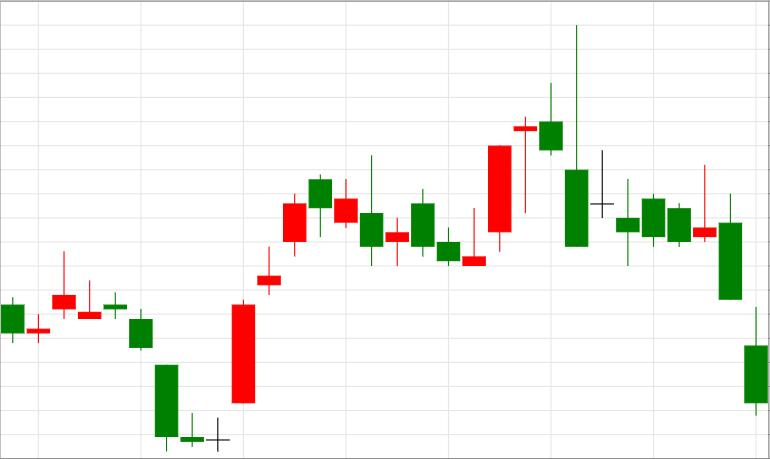hanging_man_fall: (206, 174, 332, 452)
shooting_star_fall: (462, 83, 563, 266)
